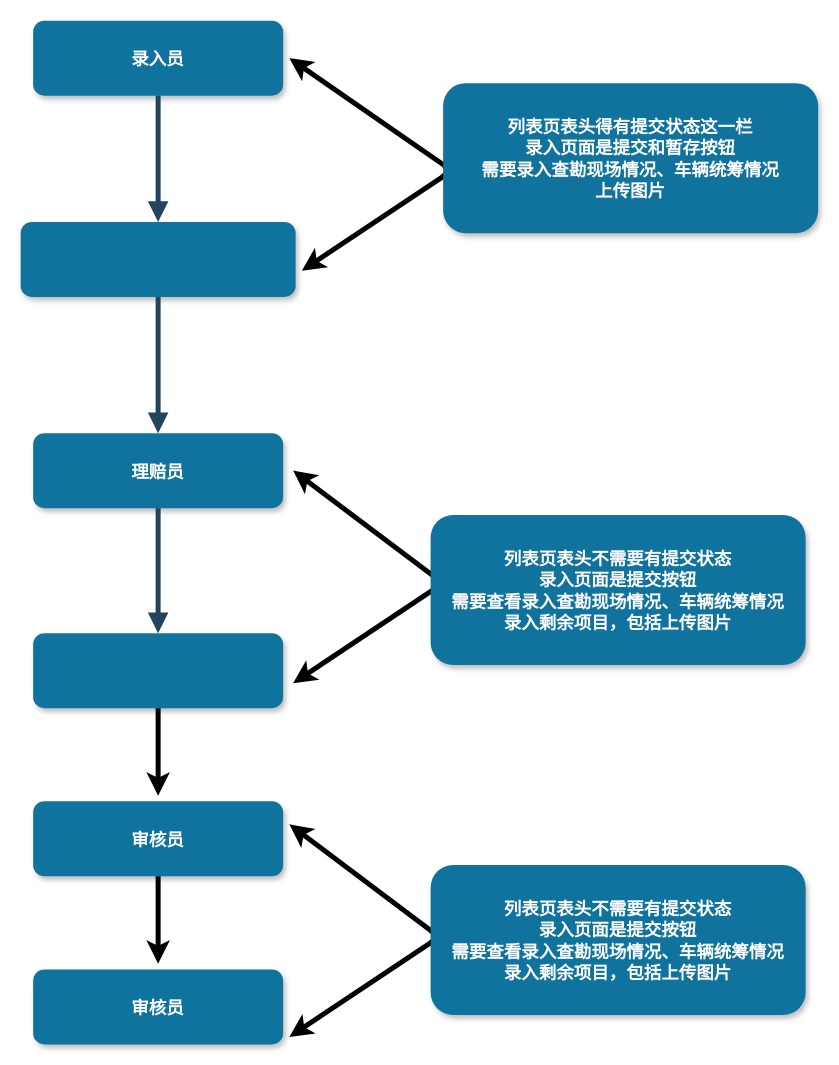
This 839x1065 diagram has some shape labels left out. The shapes that lost their labels are listed below. From the top down, each one's centre as x and y in pixels, then its label:
point 158,260: 录入信息，上传图片，提交或暂存
point 159,672: 录入信息，上传图片，提交
